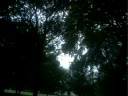window: (112, 69, 120, 83), (121, 63, 128, 78)
